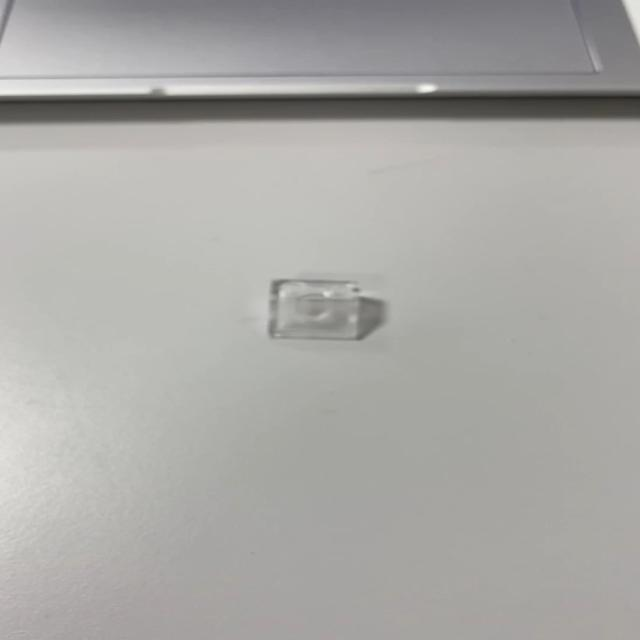P2x2x1: (266, 277, 385, 341)
